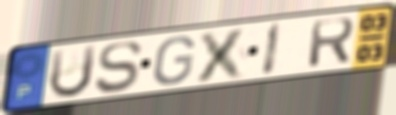G: (150, 34, 197, 87)
I: (260, 20, 285, 77)
R: (306, 15, 357, 70)
S: (93, 39, 145, 96)
U: (46, 42, 100, 101)
X: (192, 25, 252, 84)
